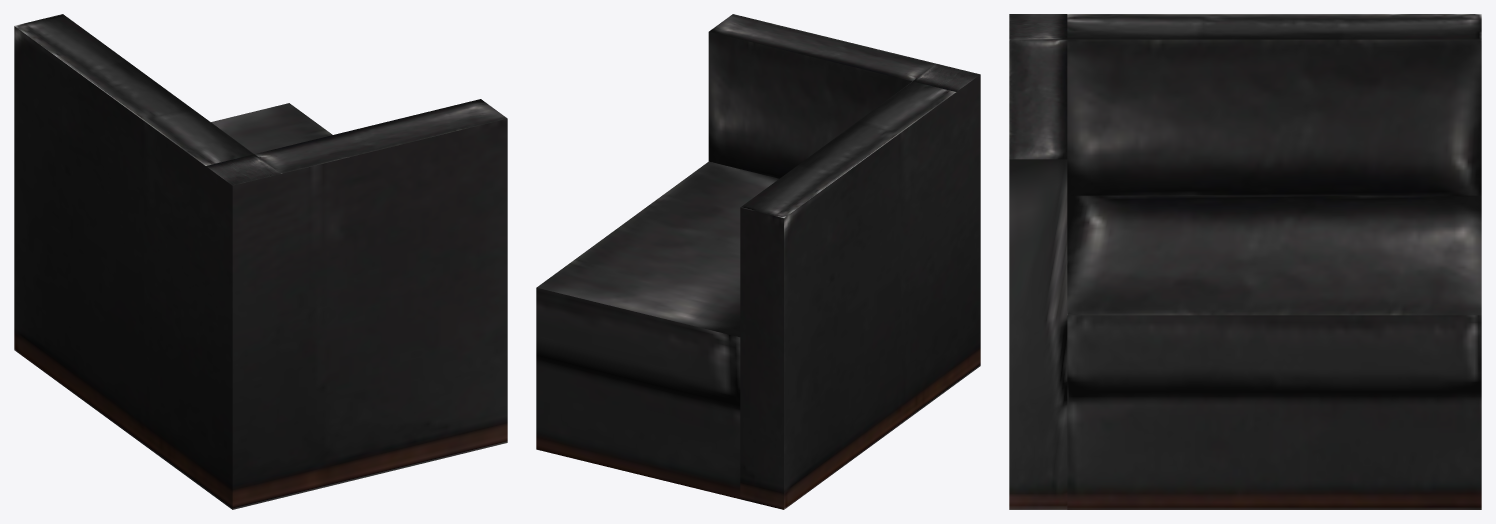
File: sectionalL.fbx
3 renders of one model, left to right at view 1: azimuth 30°, elevation 25°; view 2: azimuth 150°, elevation 25°; view 3: azimuth 270°, elevation 25°, orthographic. The views are drawn at different scales.
Visible parts, largest first — view 1: sectionalRight.001; view 2: sectionalRight.001; view 3: sectionalRight.001.
Boxes of the visible parts, x1,y1,x2,y2 form: sectionalRight.001: (14, 14, 507, 509); sectionalRight.001: (536, 14, 980, 509); sectionalRight.001: (1009, 14, 1481, 509).
Size of the model in its own units: 80 by 90.08 by 110.
Materials: 1 (1 with a texture image).
